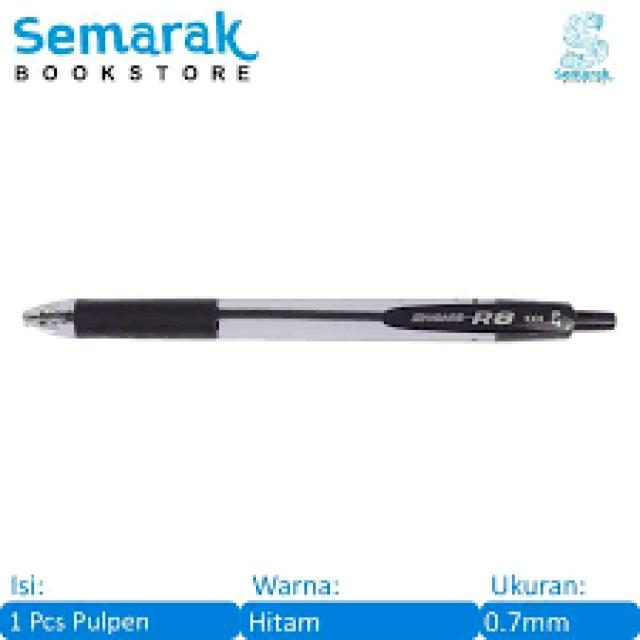pen: (17, 298, 616, 343)
